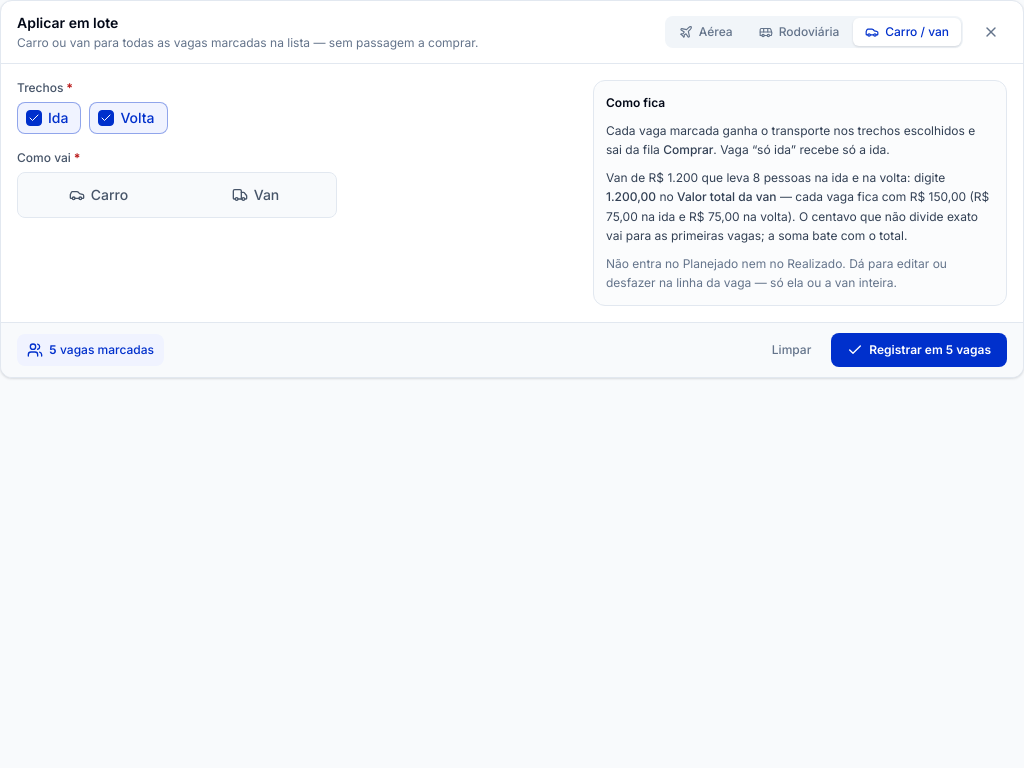
it: Painel no modo Carro/van: não perde o que foi digitado › fechar com van preenchida pergunta 'Descartar o carro/van preenchido?'; voltar mantém tudo
Click the radio button with test id "lote-terrestre-modo-van" at (256, 195), box [179,177,332,213]
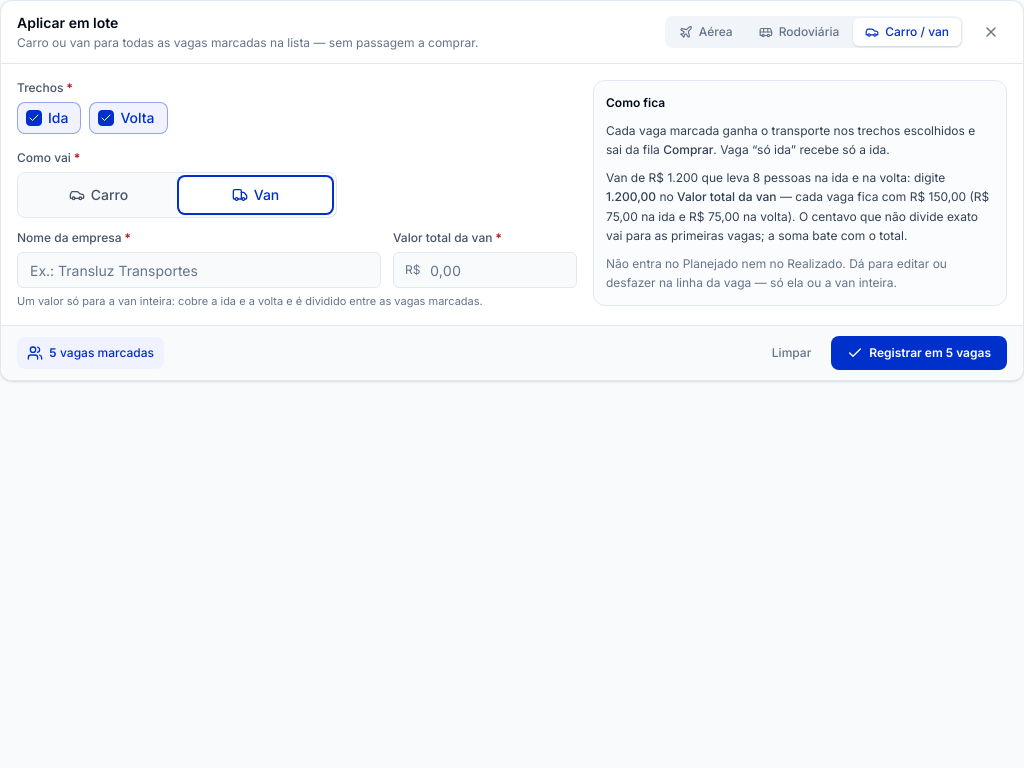
Type "1.200,00" into the field with test id "lote-terrestre-valor" at (485, 270), box [393,252,577,288]
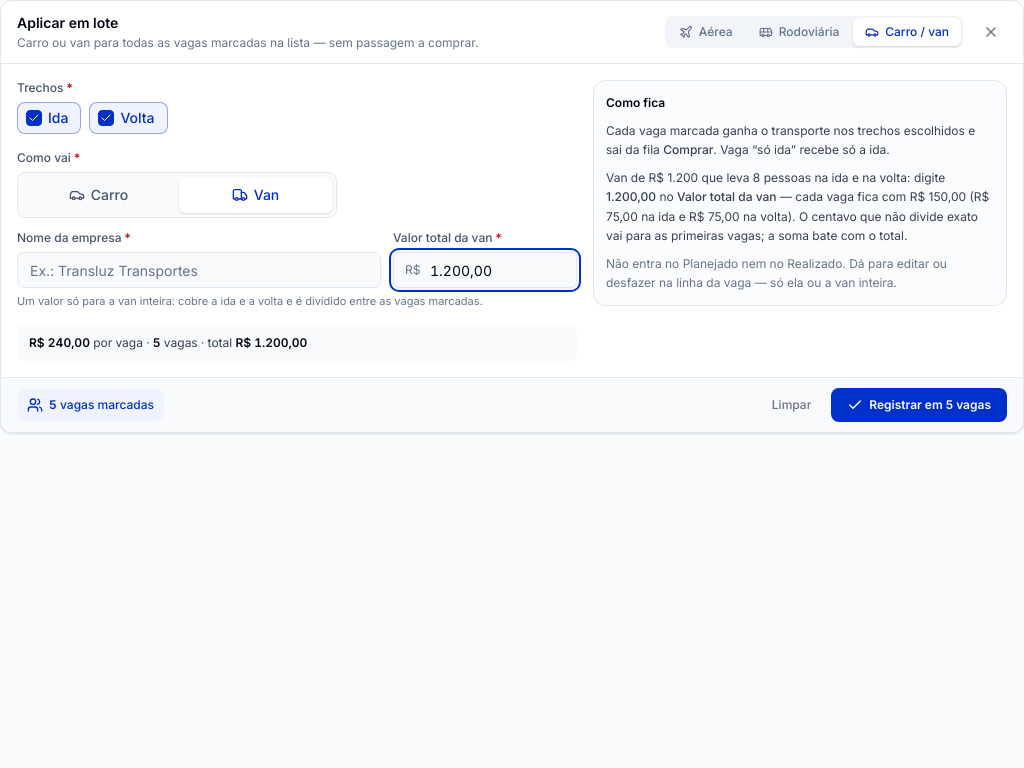
Click the button named "Fechar o painel de lote" at (991, 32), box [975,16,1007,48]
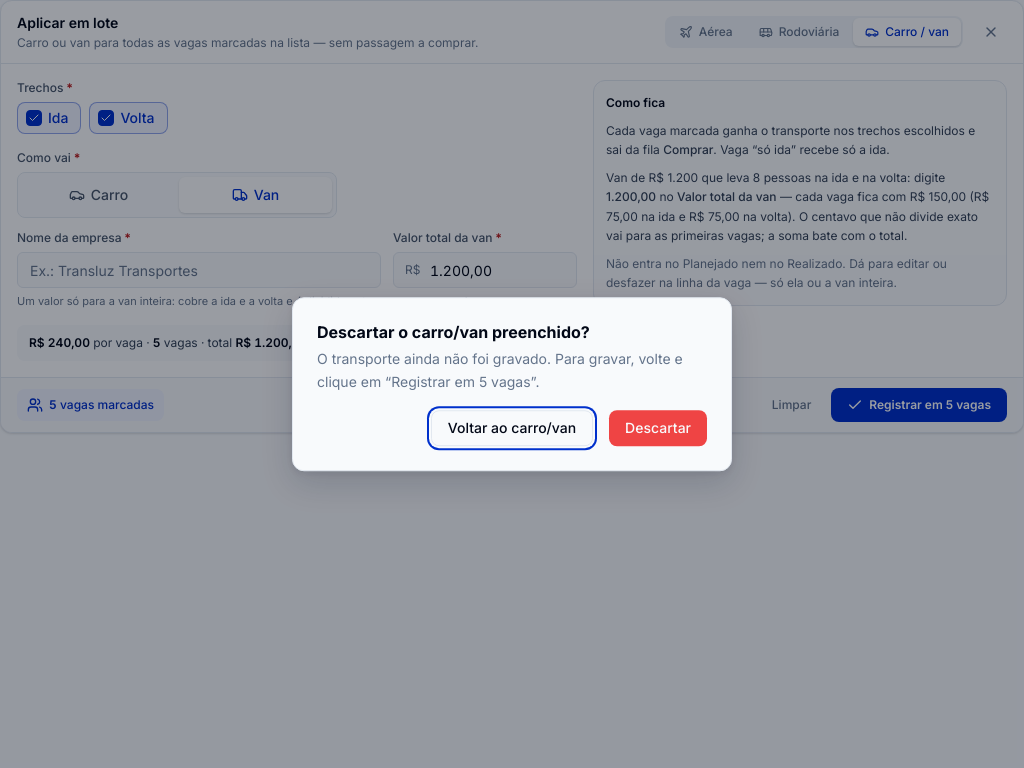
Result: the heading "Descartar o carro/van preenchido?" is shown at [317,322,590,342]
Click the button "Voltar ao carro/van" at (512, 428), box [431,410,593,446]
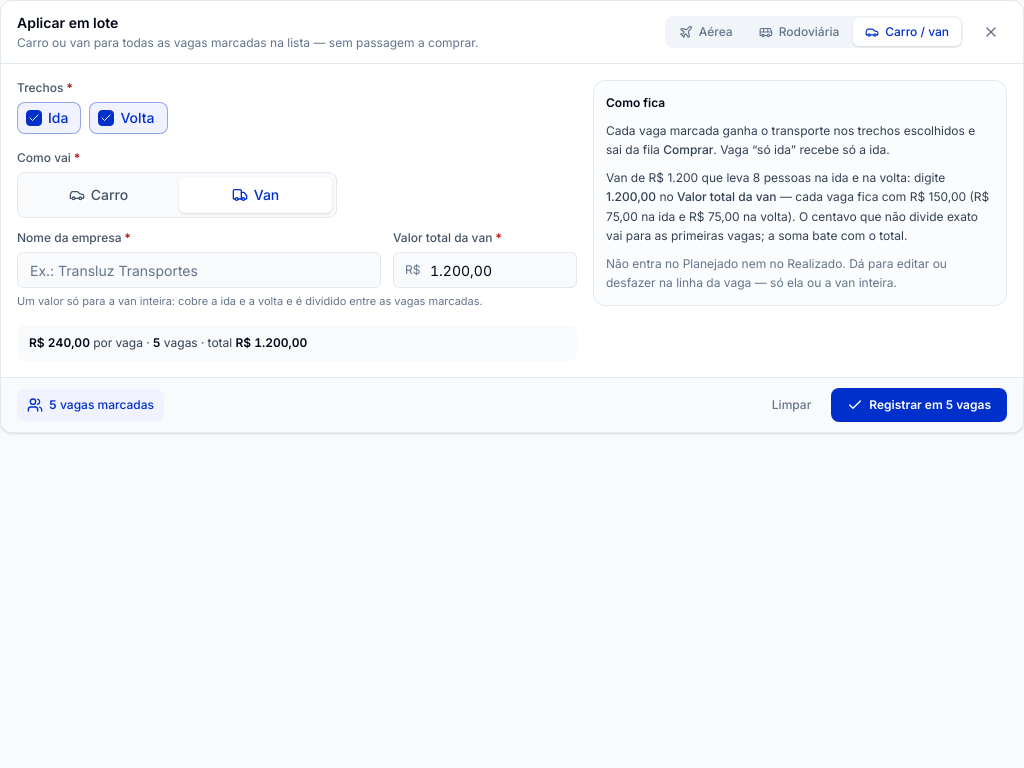
Result: the heading "Descartar o carro/van preenchido?" is gone
